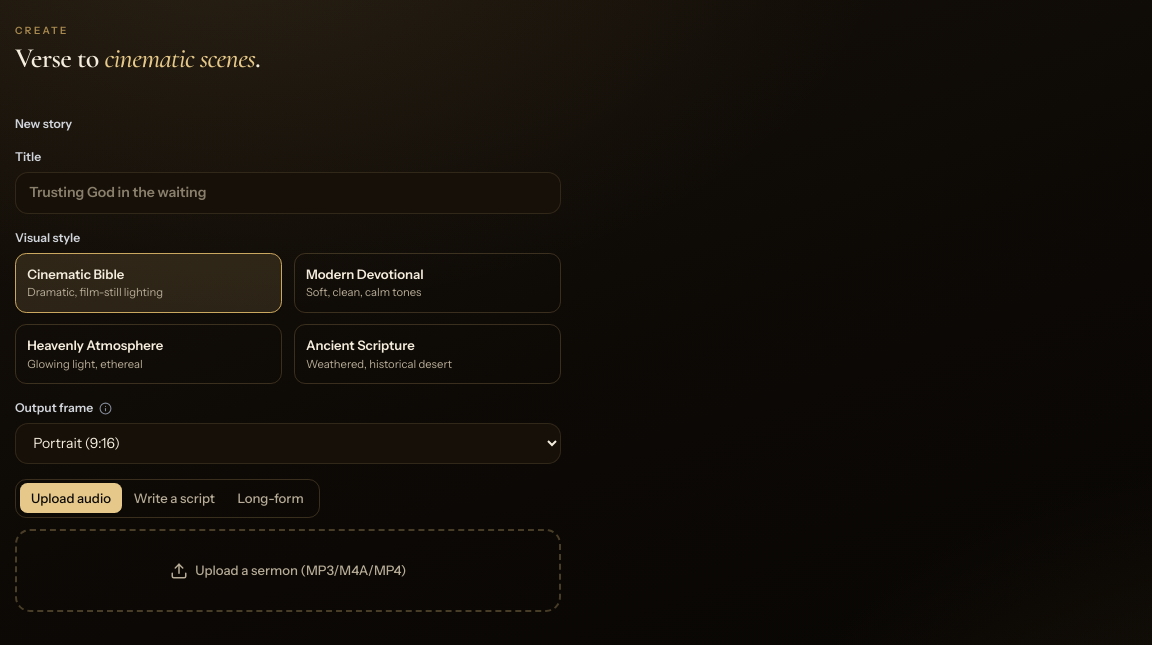
StoryVideoPage › long-form stories are landscape, so the frame picker gives way to a note
Expected: the dropdown labelled "Output frame" is shown, [15,423,561,464]
Step 1. Click the button "Long-form" → (271, 498), box [226,484,315,514]
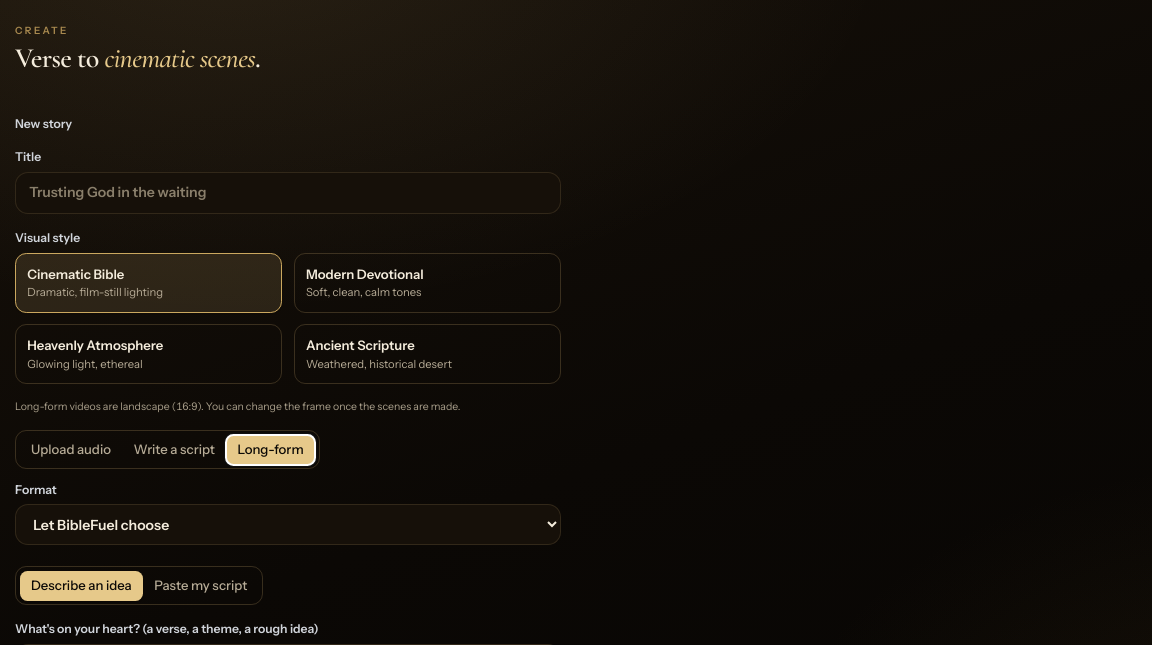
Now the text "Output frame" is gone
Now the text "Long-form videos are landscape" is shown, box [15,400,460,413]
